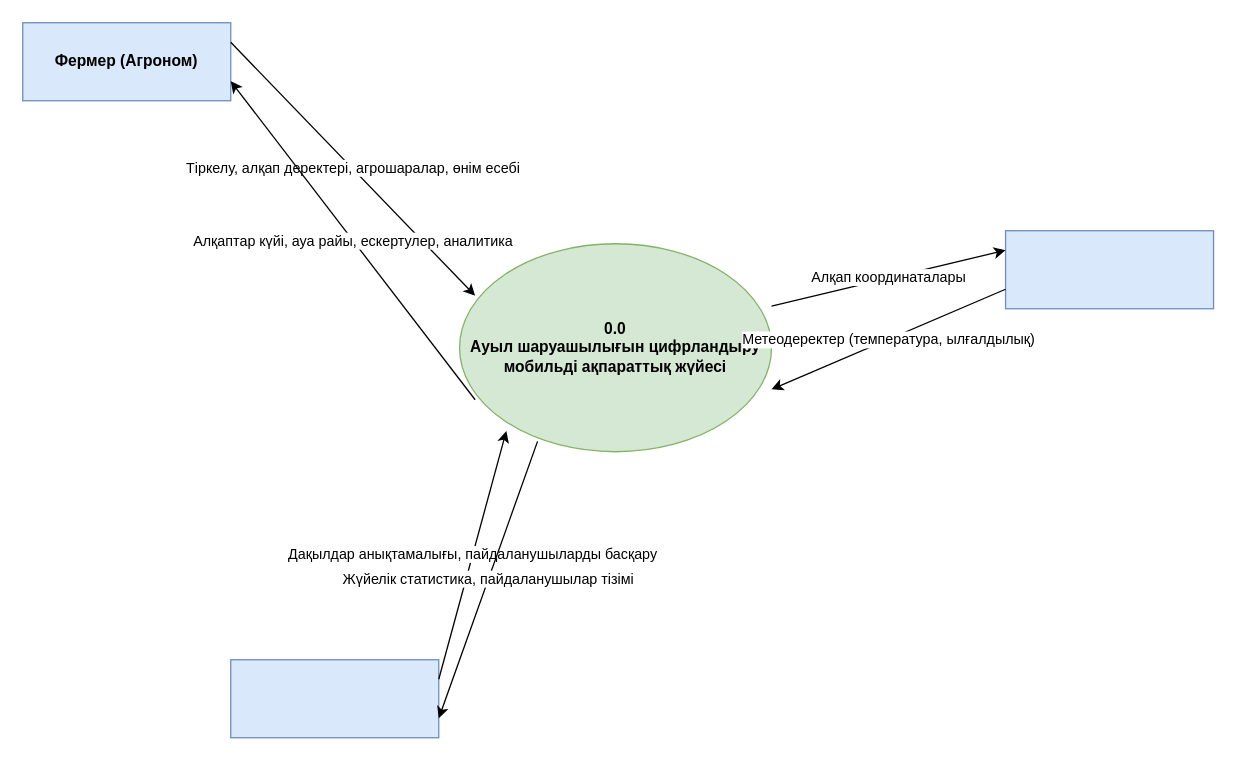
Image size: 1236x761. Some labels were removed from this diagram. Each missing label, with the centre of its shape:
"Ауа райы / IoT API" belongs at [1109,269].
"Әкімші (Администратор)" belongs at [334,698].
